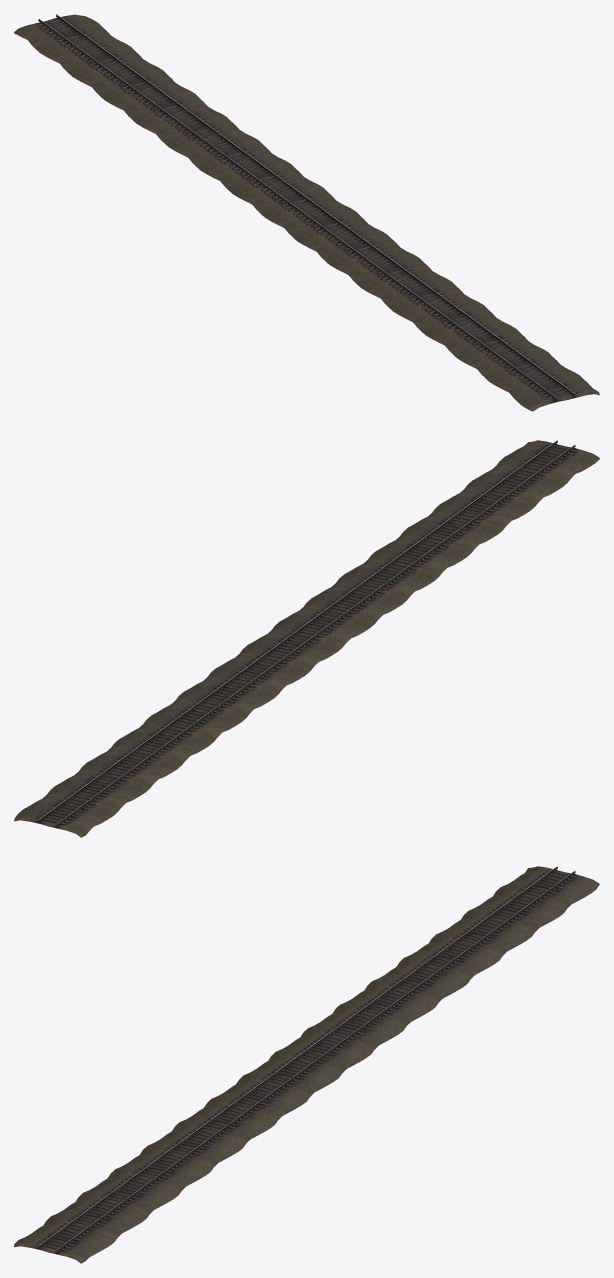
File: 1track_80_der_TSM.gltf
3 views of the same model, one above another, from view 1: azimuth 30°, elevation 25°; view 2: azimuth 150°, elevation 25°; view 3: azimuth 330°, elevation 25° (orthographic).
Bounding box in the file's own units: 6.7 × 0.6438 × 80.8.
Materials: 1 (1 with a texture image).
